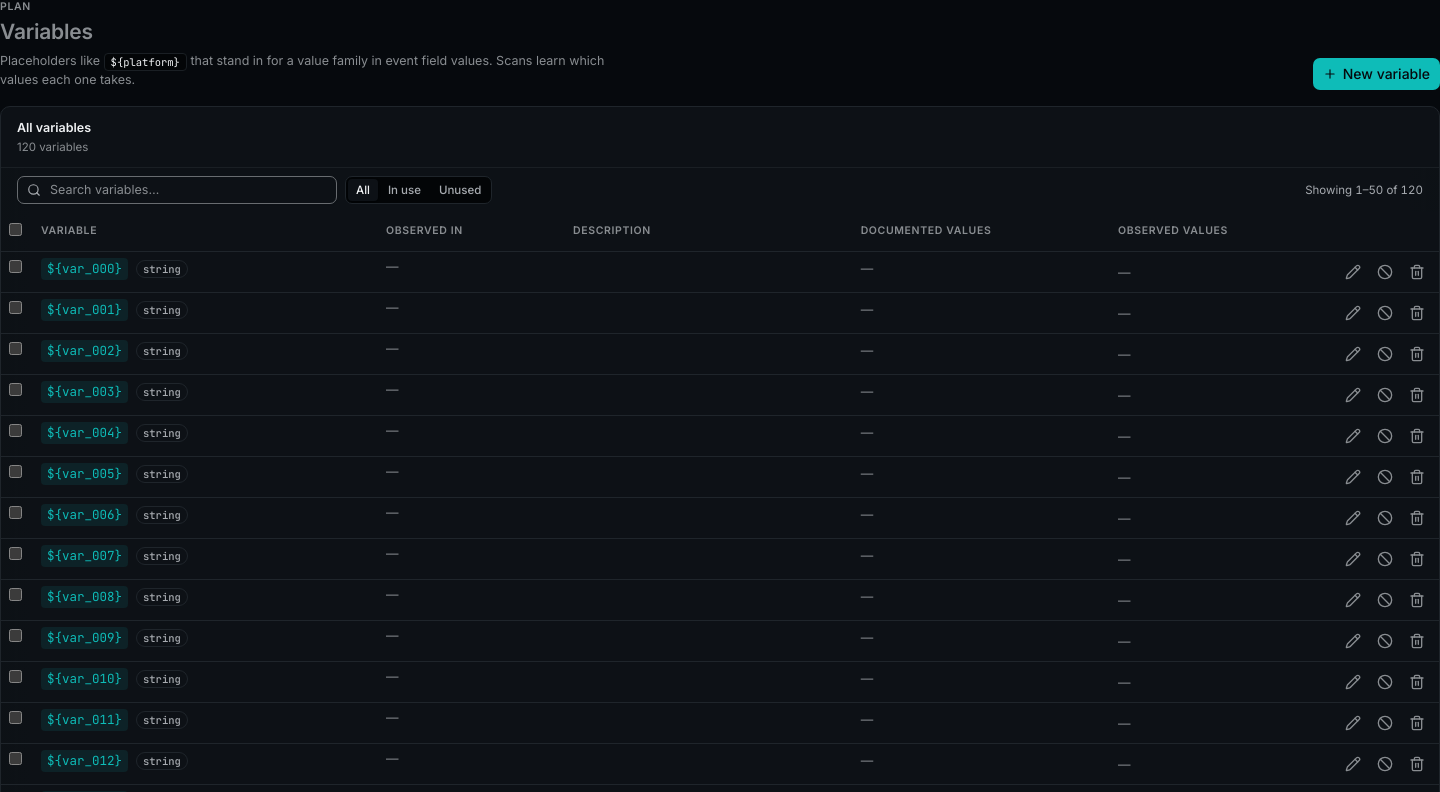
Scenario: VariablesTab › filters the whole set, not just the visible page
The width and height of the screenshot is (1440, 792).
Expected: the text "${var_000}" is shown, [41,258,128,280]
# var_117 sits on page 3 — the filter must reach it from page 1.
Type "var_117" into the search field named "Filter variables" at (177, 190), box [17,176,337,204]
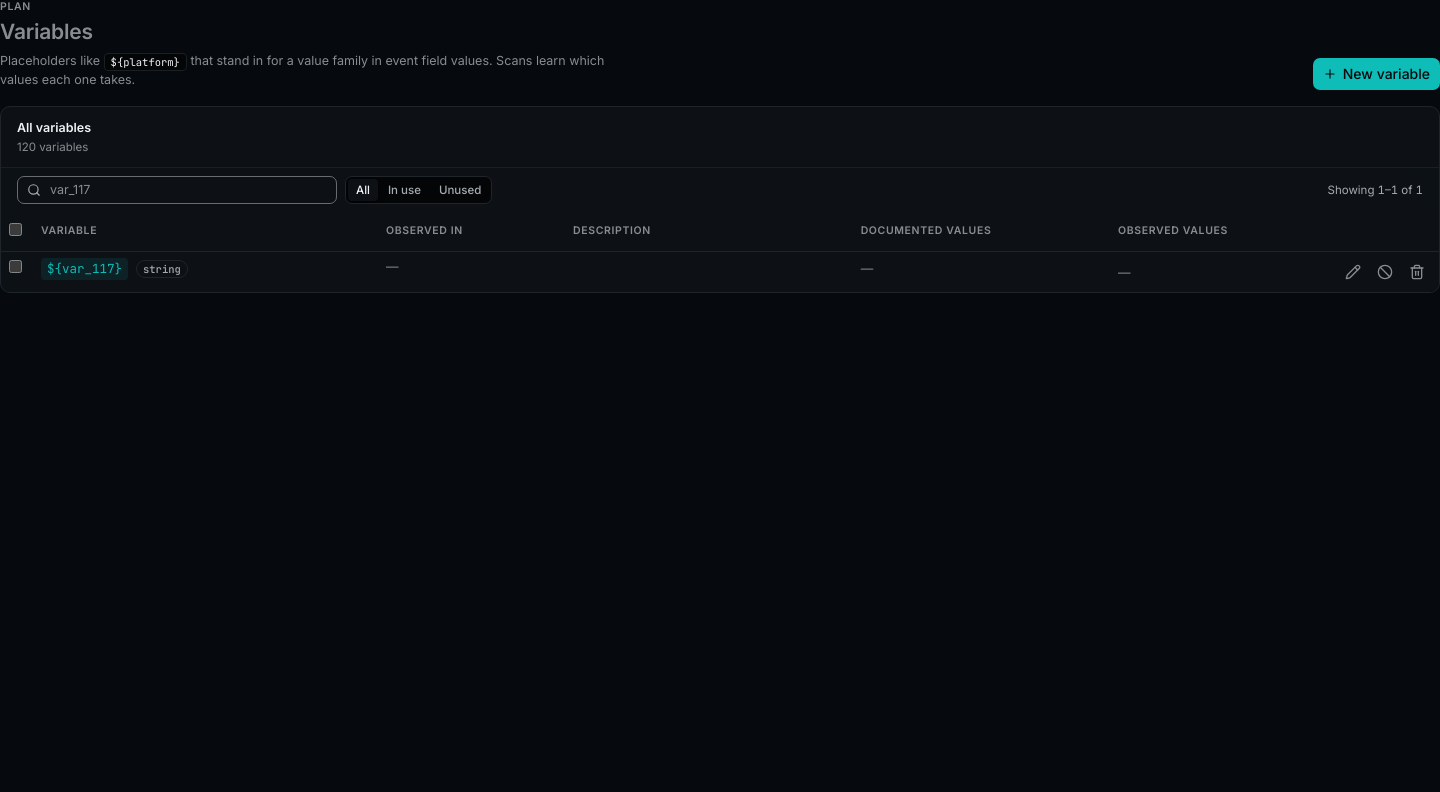
Result: the text "${var_117}" is shown at [41,258,128,280]
Result: the number of rows is 2 at [1,212,1439,252]; [1,252,1439,292]
